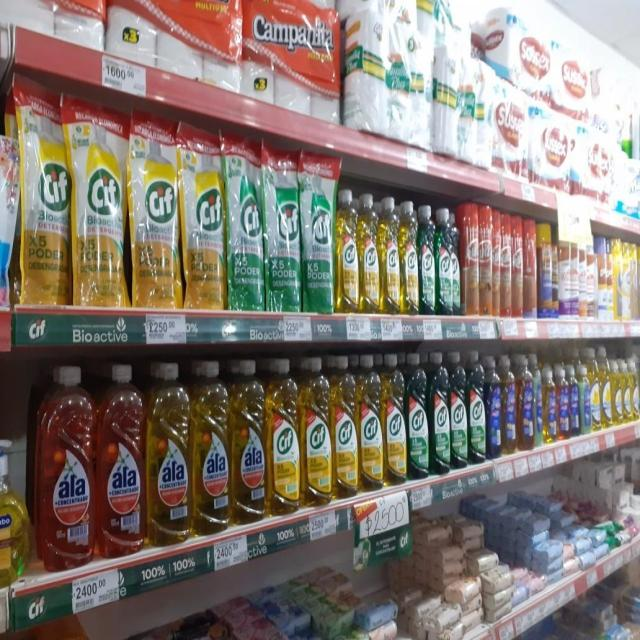ala_conc_amarillo: (147, 361, 190, 547), (192, 360, 230, 534), (232, 358, 266, 524)
ala_conc_rojo: (35, 363, 95, 571), (98, 362, 144, 560)
cif_conc_bot_amarilla: (267, 358, 300, 516), (302, 356, 332, 507), (332, 355, 358, 499), (359, 353, 382, 492), (383, 352, 406, 486), (336, 188, 358, 314), (359, 191, 380, 314), (380, 195, 400, 315), (401, 199, 418, 315)
cif_conc_botella_verde: (407, 352, 428, 481), (430, 351, 450, 476), (468, 351, 486, 465), (450, 350, 467, 470), (420, 203, 436, 315), (436, 206, 452, 316), (451, 206, 461, 316)
cif_conc_sachet_amarillo: (71, 100, 126, 308), (20, 82, 70, 307), (129, 110, 179, 309), (181, 122, 225, 311)
cif_conc_sachet_verde: (226, 133, 264, 311), (264, 142, 300, 312), (302, 152, 334, 314)
heroe: (0, 449, 28, 590)
magistral_con_amarillo: (590, 348, 600, 433), (601, 348, 611, 429), (611, 358, 622, 426), (622, 358, 632, 423), (632, 357, 640, 421)
zorro: (486, 354, 502, 460), (518, 353, 534, 452), (502, 354, 517, 456), (544, 364, 556, 444), (558, 366, 570, 440), (534, 358, 543, 448), (570, 364, 579, 438)
